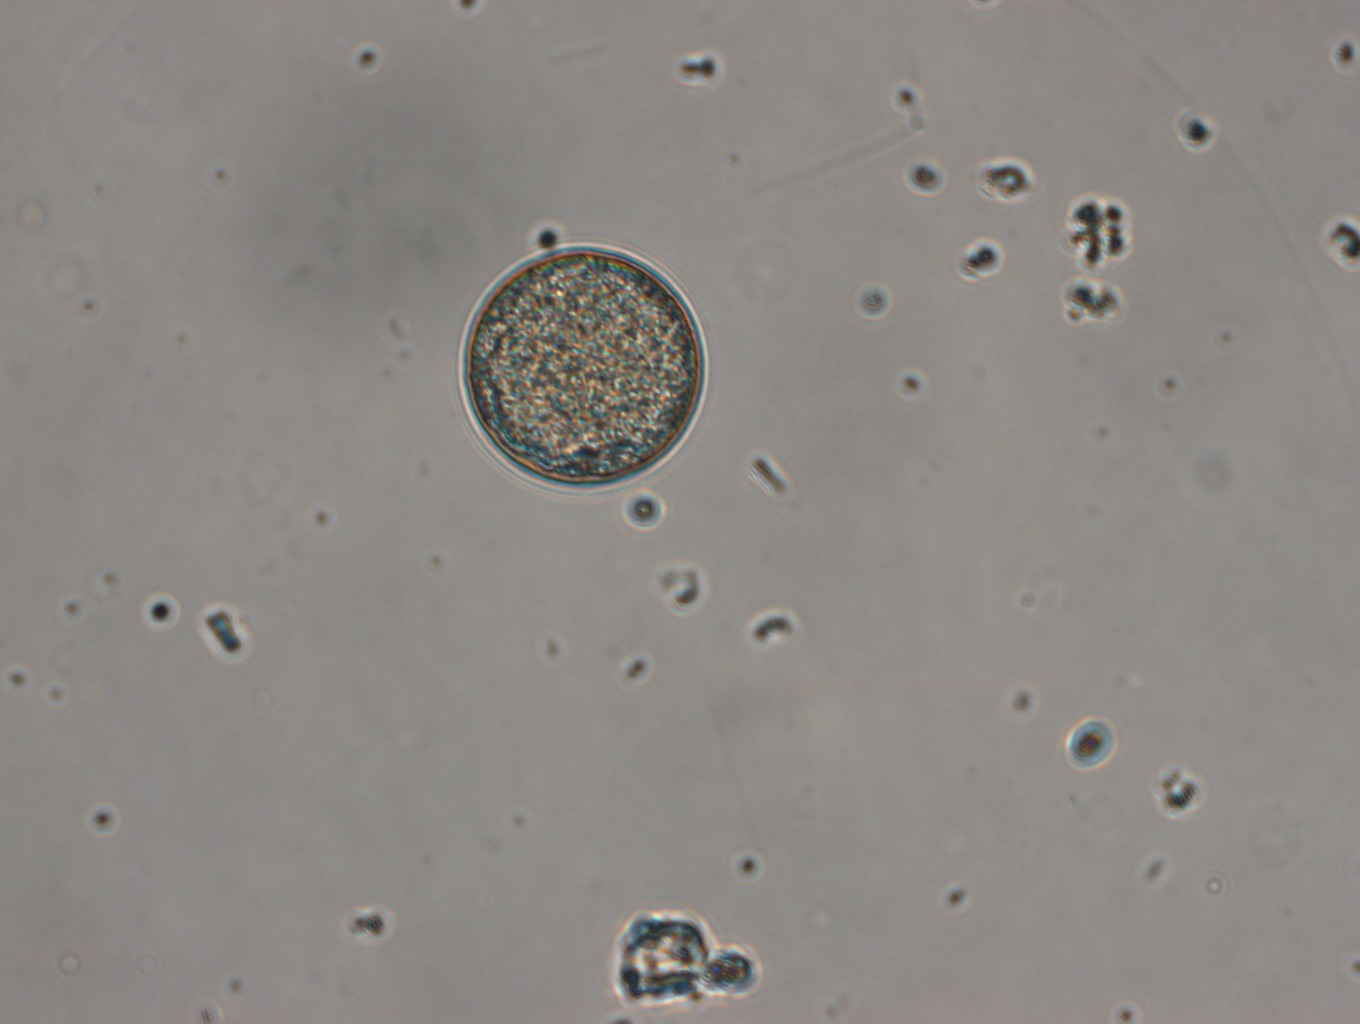coscinodiscus: (453, 238, 713, 497)
